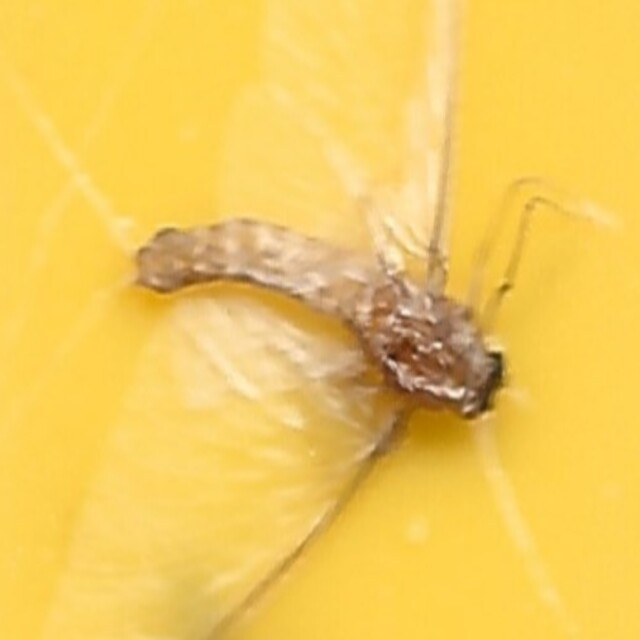Ephemeroptera: (126, 202, 514, 438)
